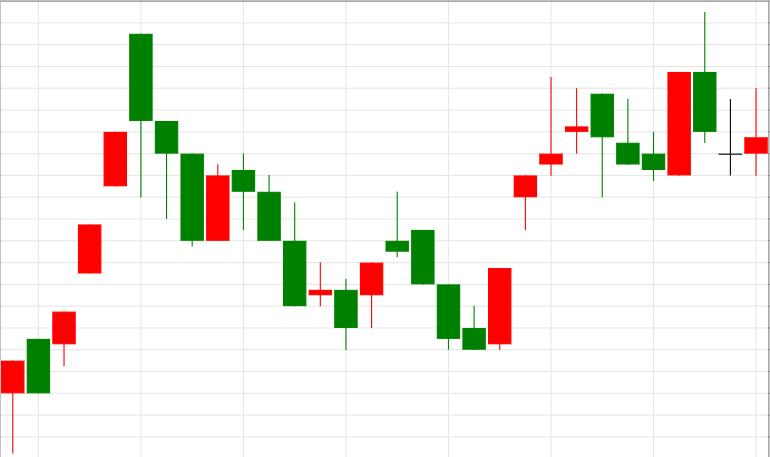hanging_man_fall: (488, 76, 614, 350)
